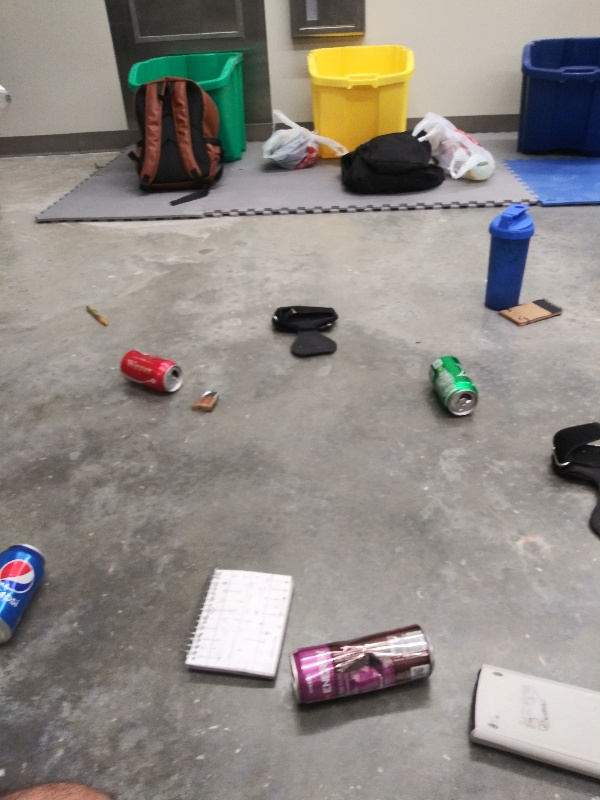can: (284, 619, 442, 715), (1, 539, 48, 650), (425, 354, 480, 421), (117, 348, 187, 397)
